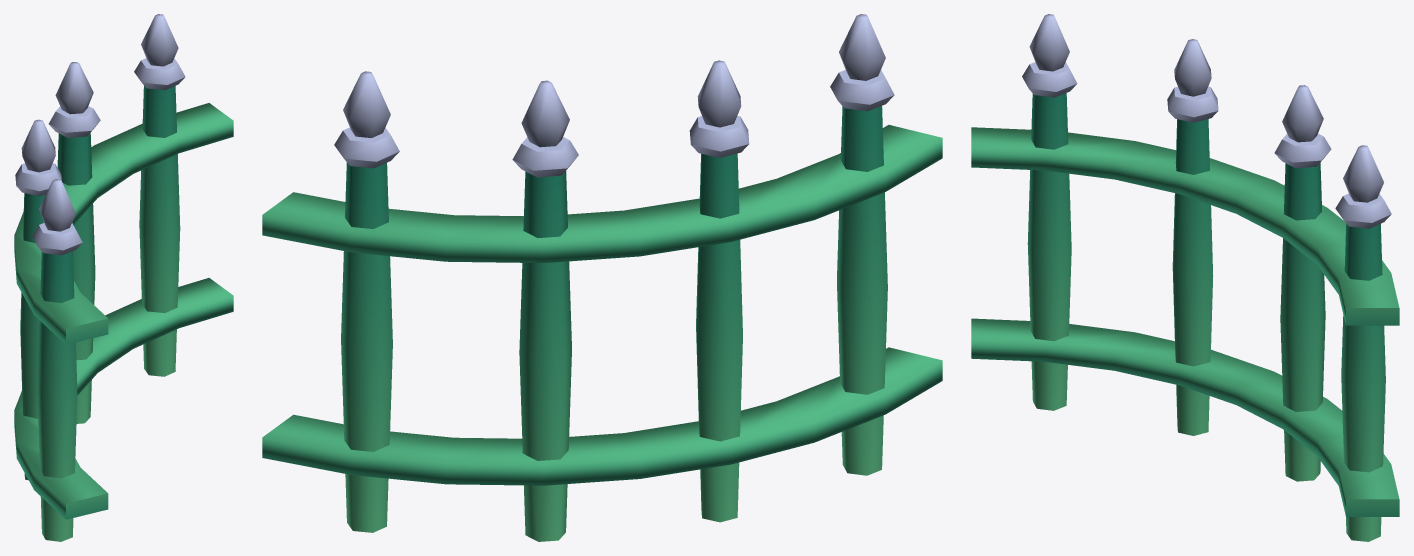
File: iron-fence-curve.glb
The picture shows the model from 3 angles, left to right: view 1: azimuth 30°, elevation 25°; view 2: azimuth 150°, elevation 25°; view 3: azimuth 270°, elevation 25°; orthographic projection. The views are drawn at different scales.
Parts seen in each view (by area): view 1: iron-fence-curve; view 2: iron-fence-curve; view 3: iron-fence-curve.
Boxes of the visible parts, x1,y1,x2,y2 form: iron-fence-curve: (14, 14, 233, 541); iron-fence-curve: (262, 14, 942, 541); iron-fence-curve: (971, 14, 1399, 541).
Size of the model in its own units: 17.6 by 17.58 by 17.6.
1 material, 1 textured.
